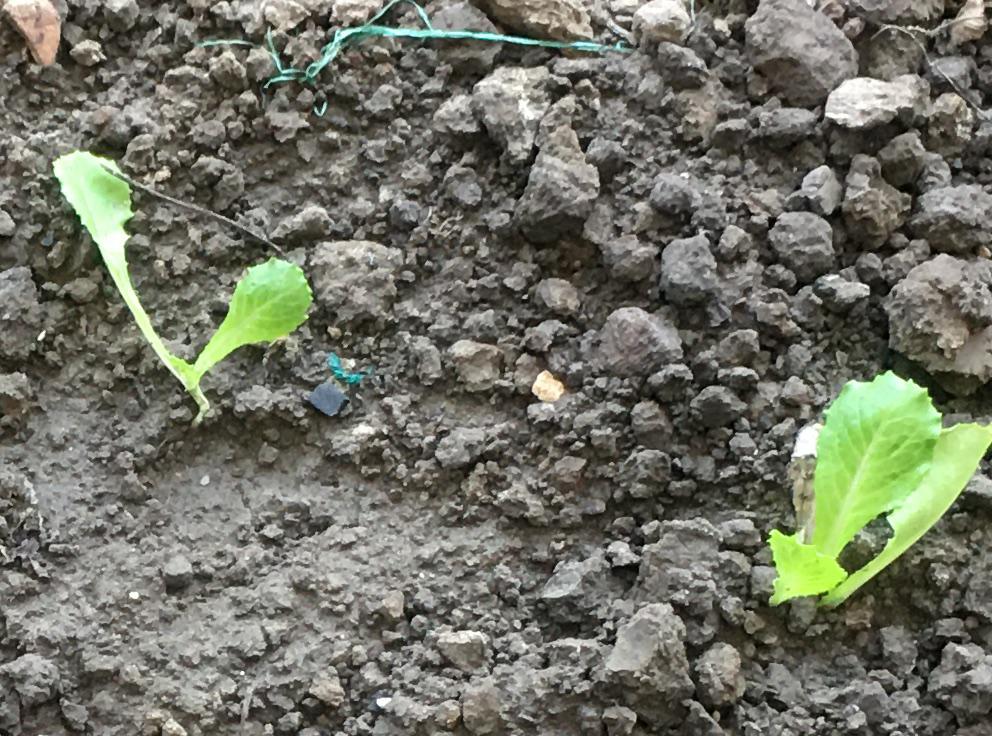block: (883, 249, 992, 385), (743, 1, 870, 114), (523, 128, 601, 246), (470, 58, 551, 164)
